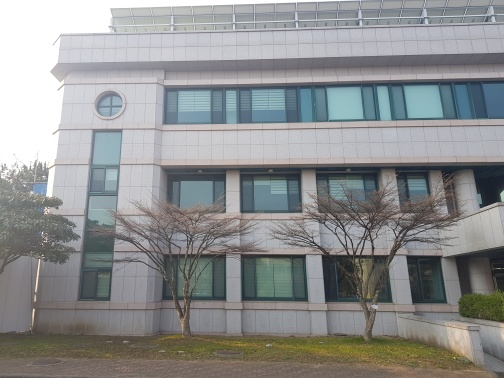Information Telecommunication Center: (25, 17, 503, 336), (46, 38, 145, 334)
